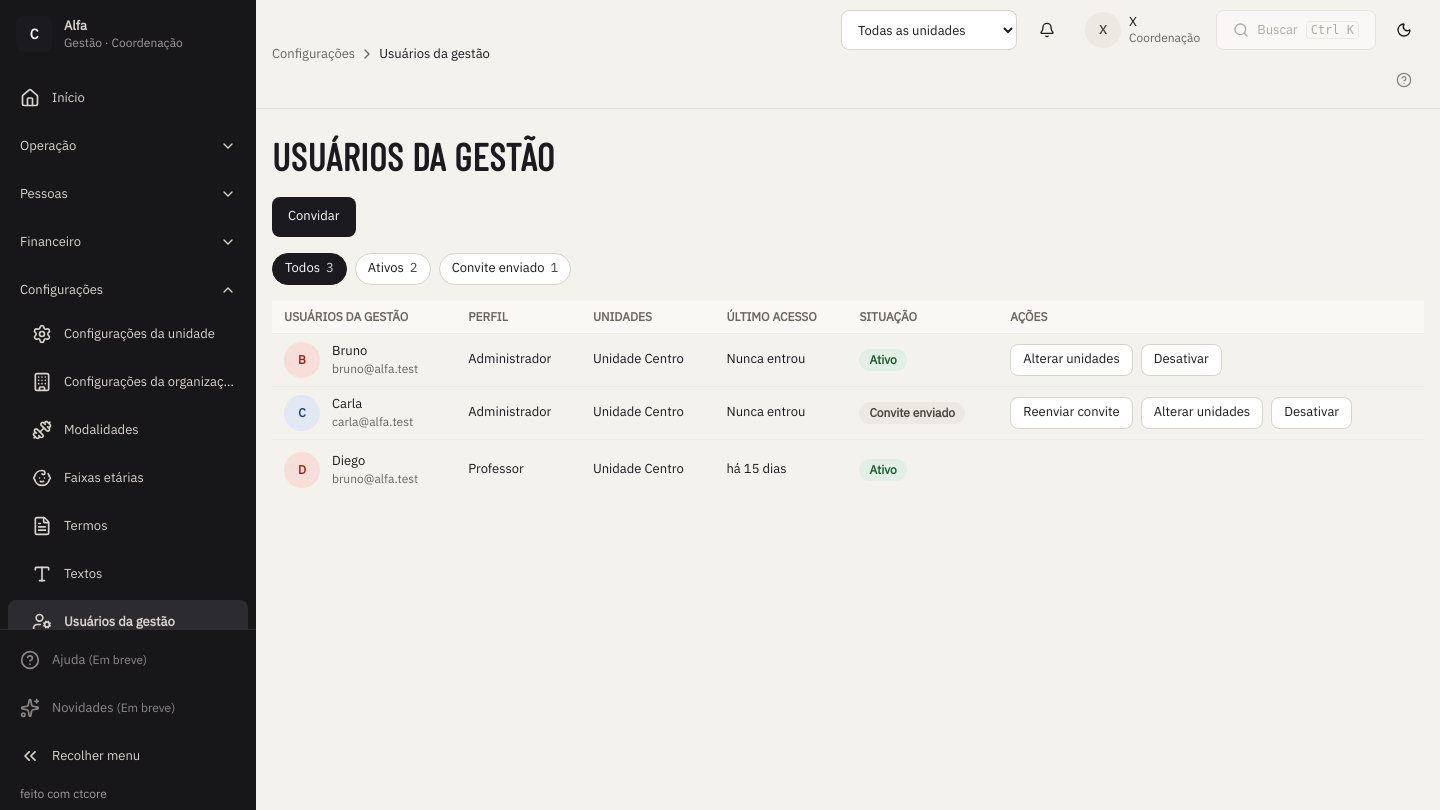
it: UsersPage › CA20: e-mail já ligado (409) mostra a mensagem e mantém a janela
Click the button "Convidar".
click(314, 216)  # box [272,196,356,236]
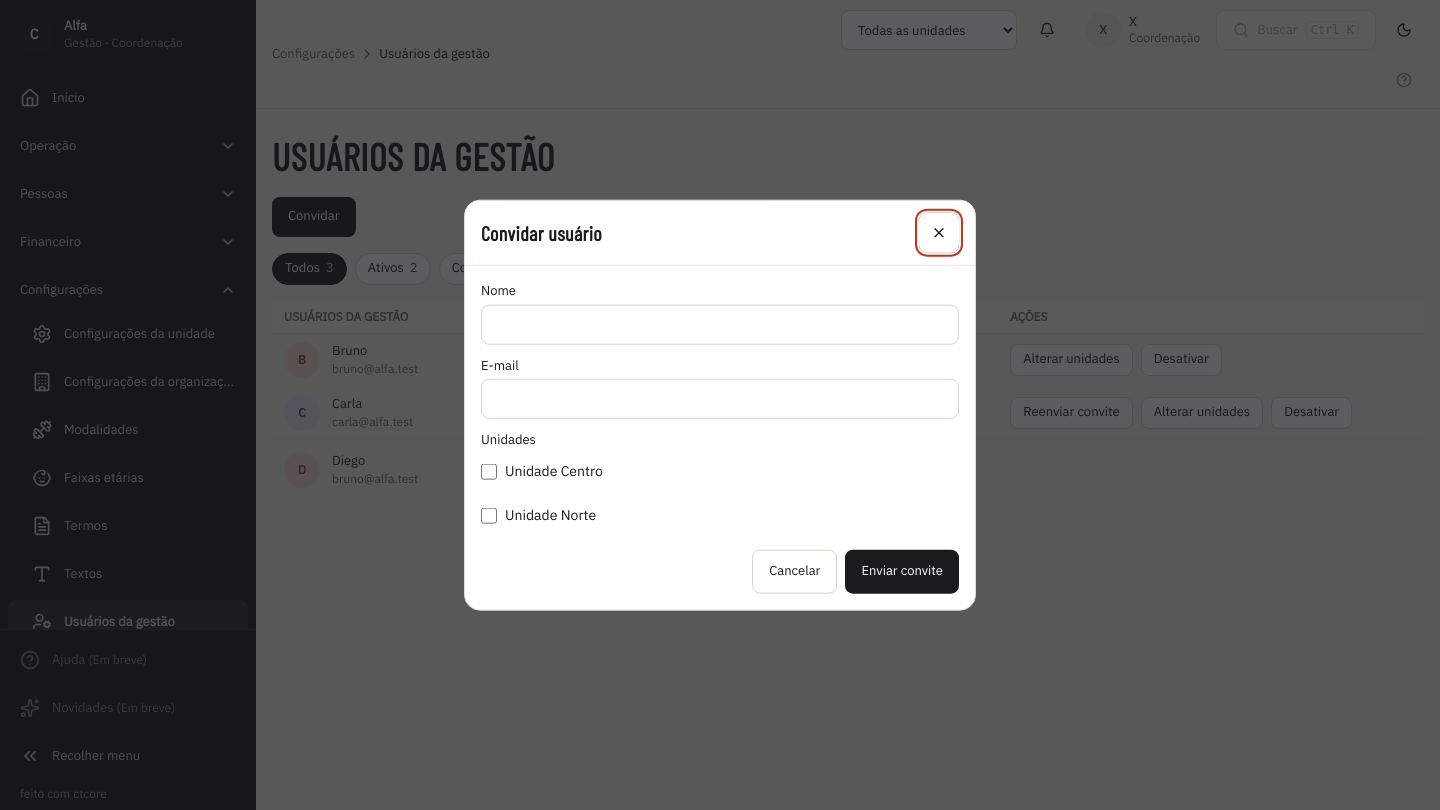
Type "Ele" into the field labelled "Nome".
click(720, 324); type("Ele")  # box [481,304,959,344]
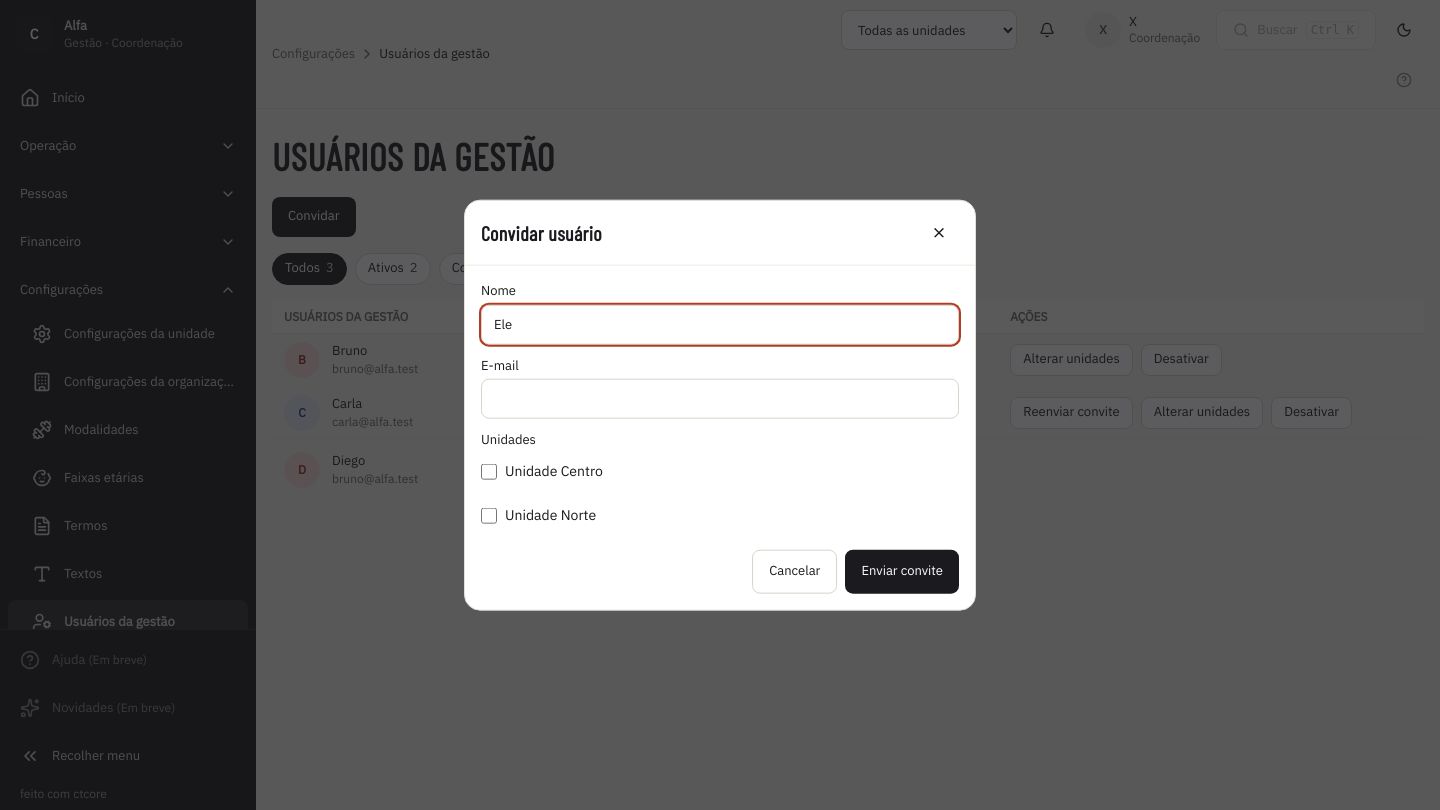
Type "existente@x.com" into the field labelled "E-mail".
click(720, 399); type("existente@x.com")  # box [481,379,959,419]
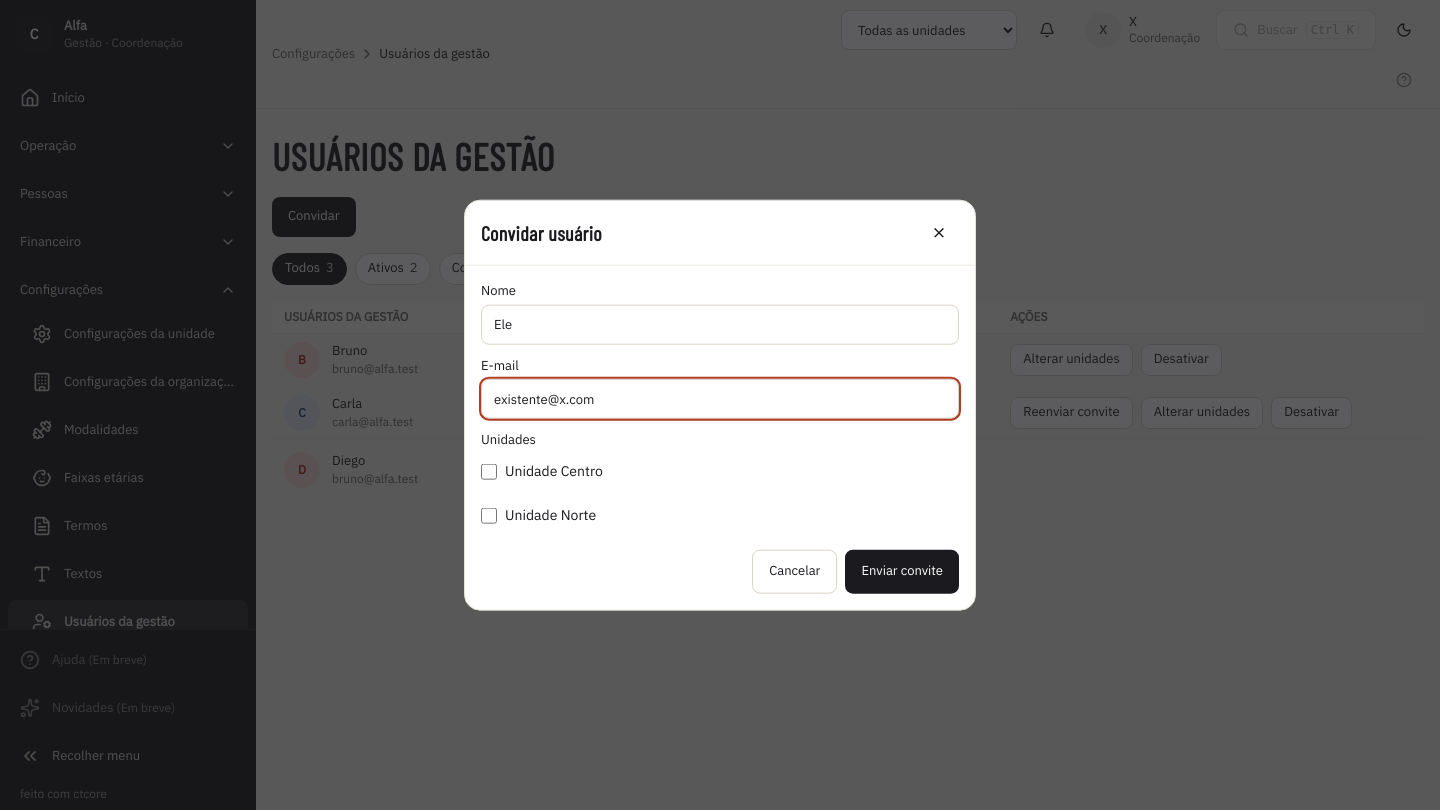
Click the checkbox labelled "Unidade Centro".
click(489, 471)  # box [481,463,497,479]
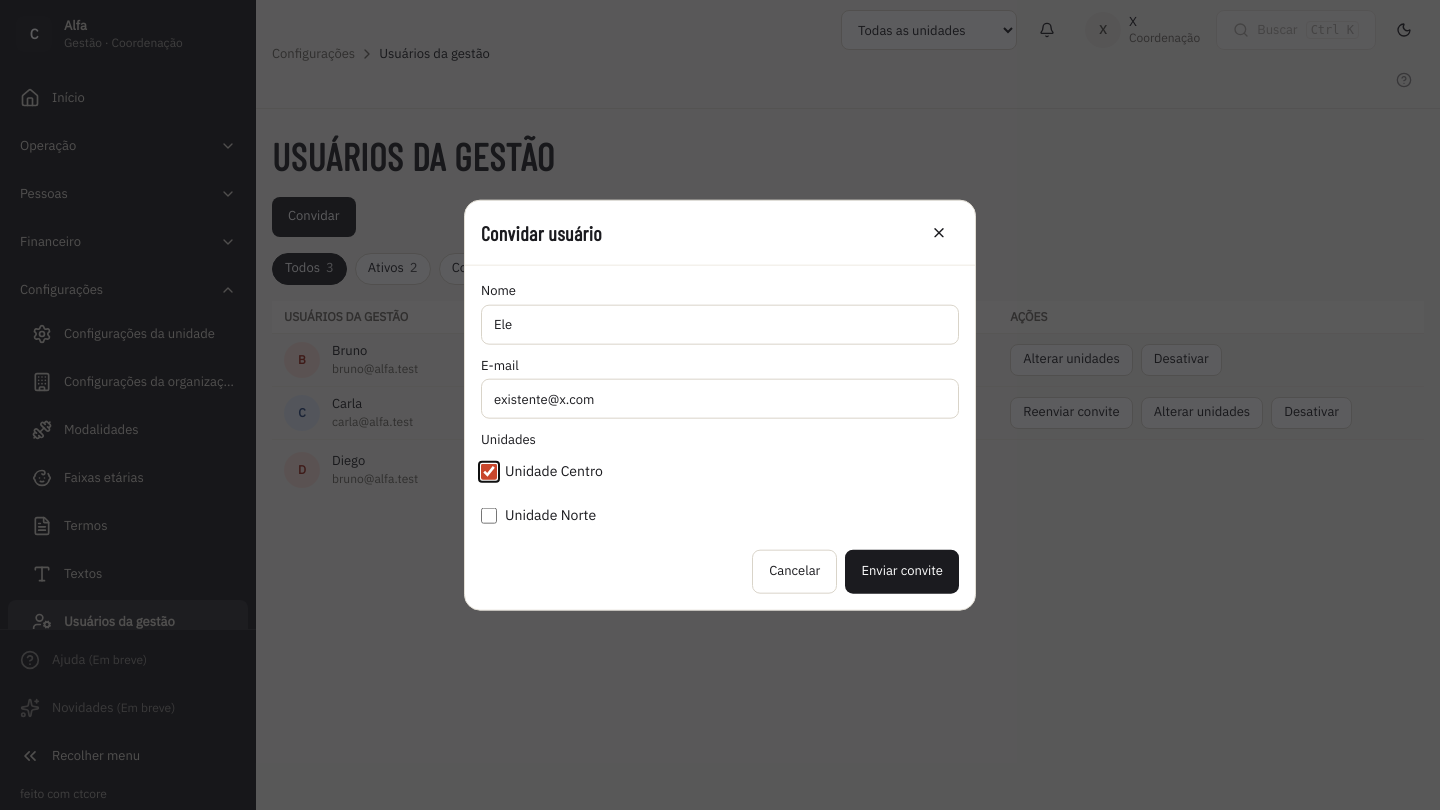
Click the button "Enviar convite".
click(902, 571)  # box [845,549,959,593]
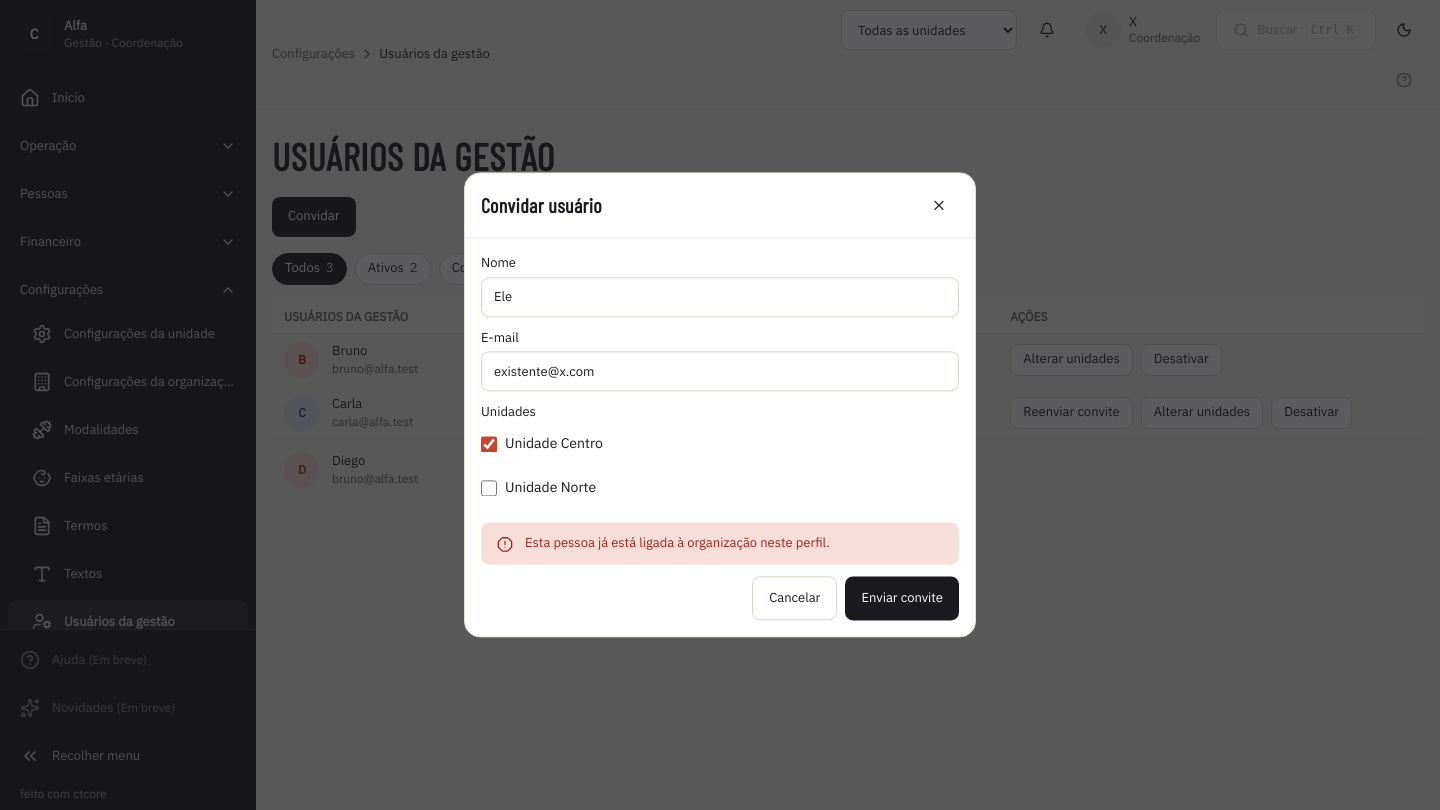
Check: the text "Esta pessoa já está ligada à organização neste perfil." is shown, box [525,534,830,553]
